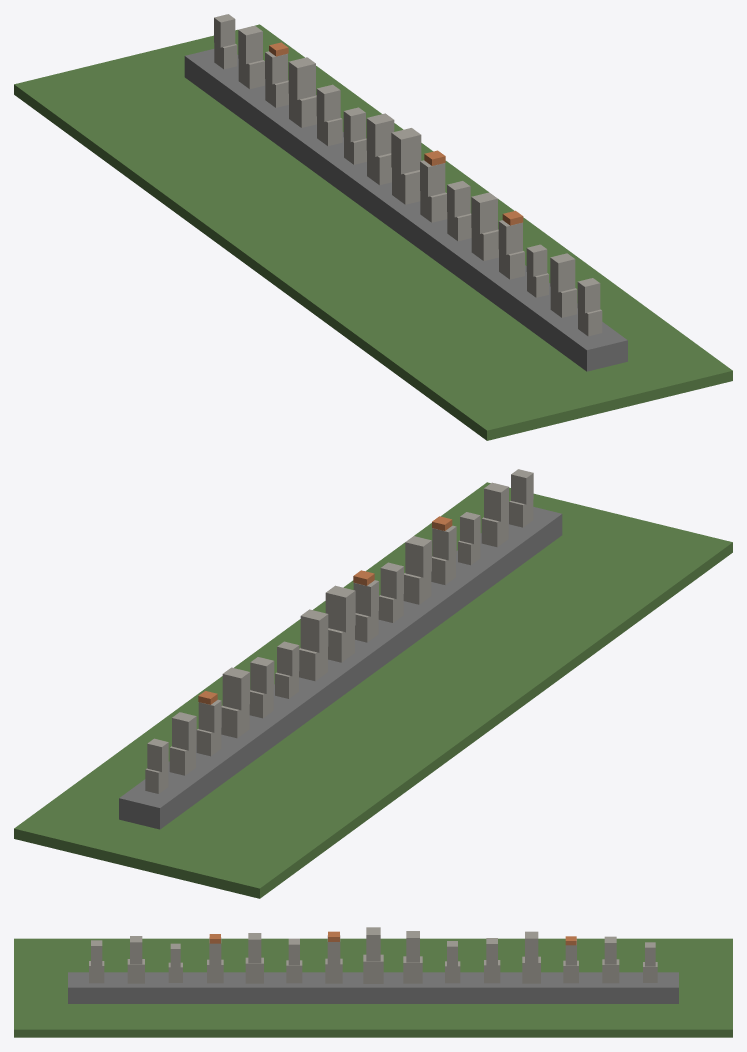
Rendered from far.fbx.
3 renders of one model, top to bottom at view 1: azimuth 30°, elevation 25°; view 2: azimuth 150°, elevation 25°; view 3: azimuth 270°, elevation 25°, orthographic. The views are drawn at different scales.
Visible parts, largest first — view 1: landmark-moai_platform/0/far; view 2: landmark-moai_platform/0/far; view 3: landmark-moai_platform/0/far.
Part boxes in pixels (x1,y1,x2,y2): landmark-moai_platform/0/far: (14,14,732,440); landmark-moai_platform/0/far: (14,469,732,898); landmark-moai_platform/0/far: (14,927,732,1037).
Size of the model in its own units: 30 by 11.2 by 100.
